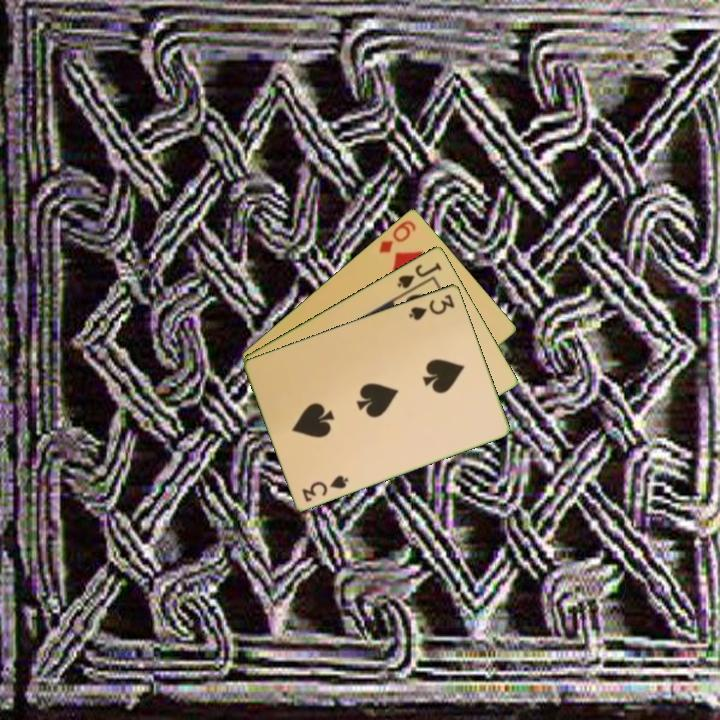3s: (406, 290, 458, 323), (299, 471, 351, 504)
6d: (375, 216, 419, 256)
Js: (394, 259, 445, 291)
